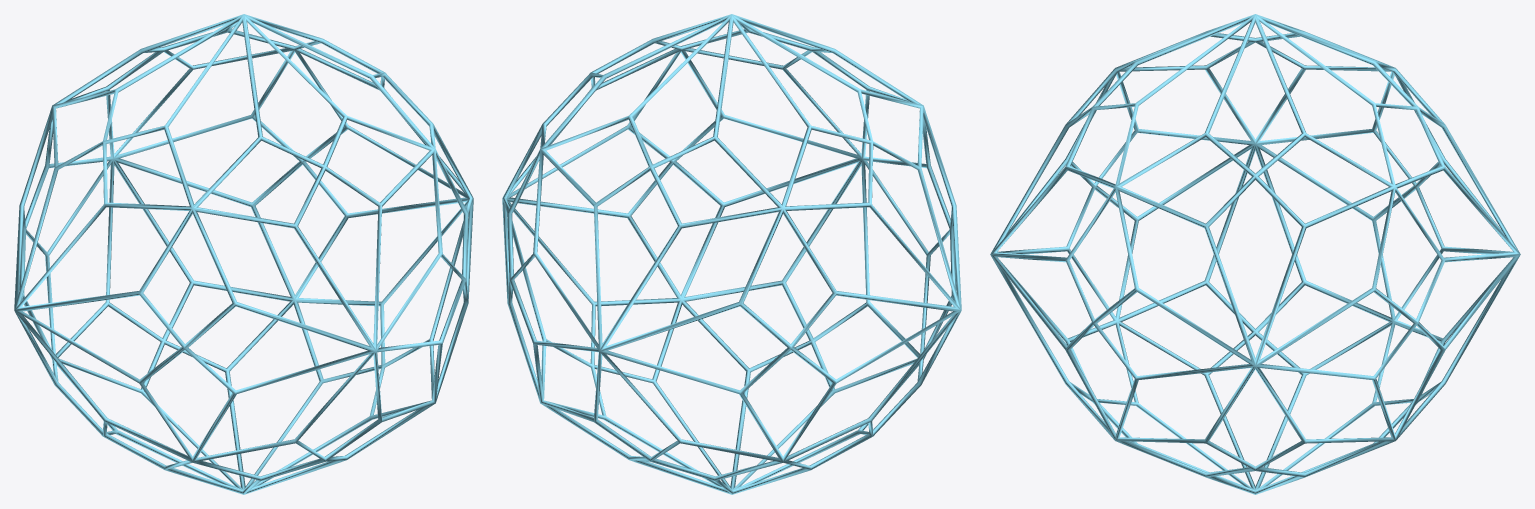
File: JoinedTruncatedCuboctahedron1.glb
3 renders of one model, left to right at view 1: azimuth 30°, elevation 25°; view 2: azimuth 150°, elevation 25°; view 3: azimuth 270°, elevation 25°, orthographic.
Parts seen in each view (by area): view 1: JoinedTruncatedCuboctahedron; view 2: JoinedTruncatedCuboctahedron; view 3: JoinedTruncatedCuboctahedron.
Part boxes in pixels (<box>): JoinedTruncatedCuboctahedron: <box>14,14,473,494</box>; JoinedTruncatedCuboctahedron: <box>502,14,961,494</box>; JoinedTruncatedCuboctahedron: <box>990,14,1520,494</box>.
Size of the model in its own units: 5.4 by 5.4 by 5.4.
